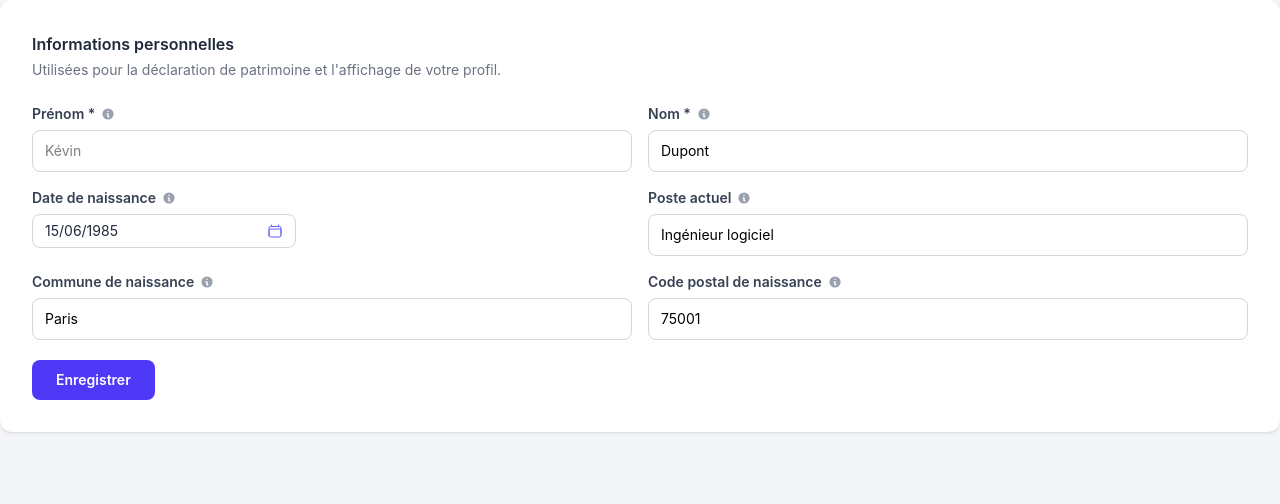
it: PersonalInfoPanel › affiche une erreur si le prénom est vide
Click the button "Enregistrer" at (93,380), box [32,360,155,400]
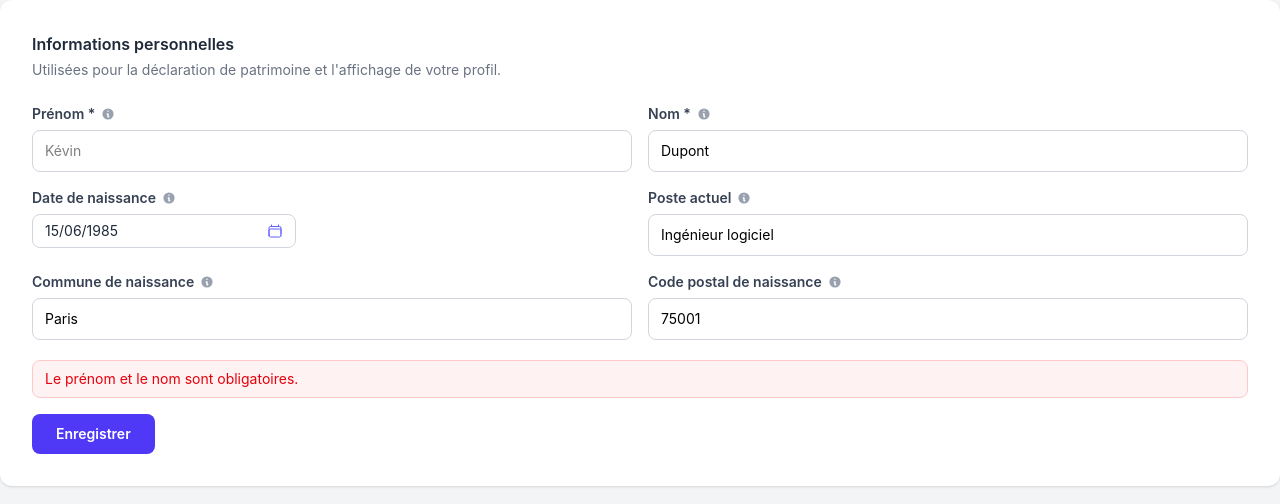
Check: the text "Le prénom et le nom sont obligatoires." is shown, box [32,360,1248,398]
